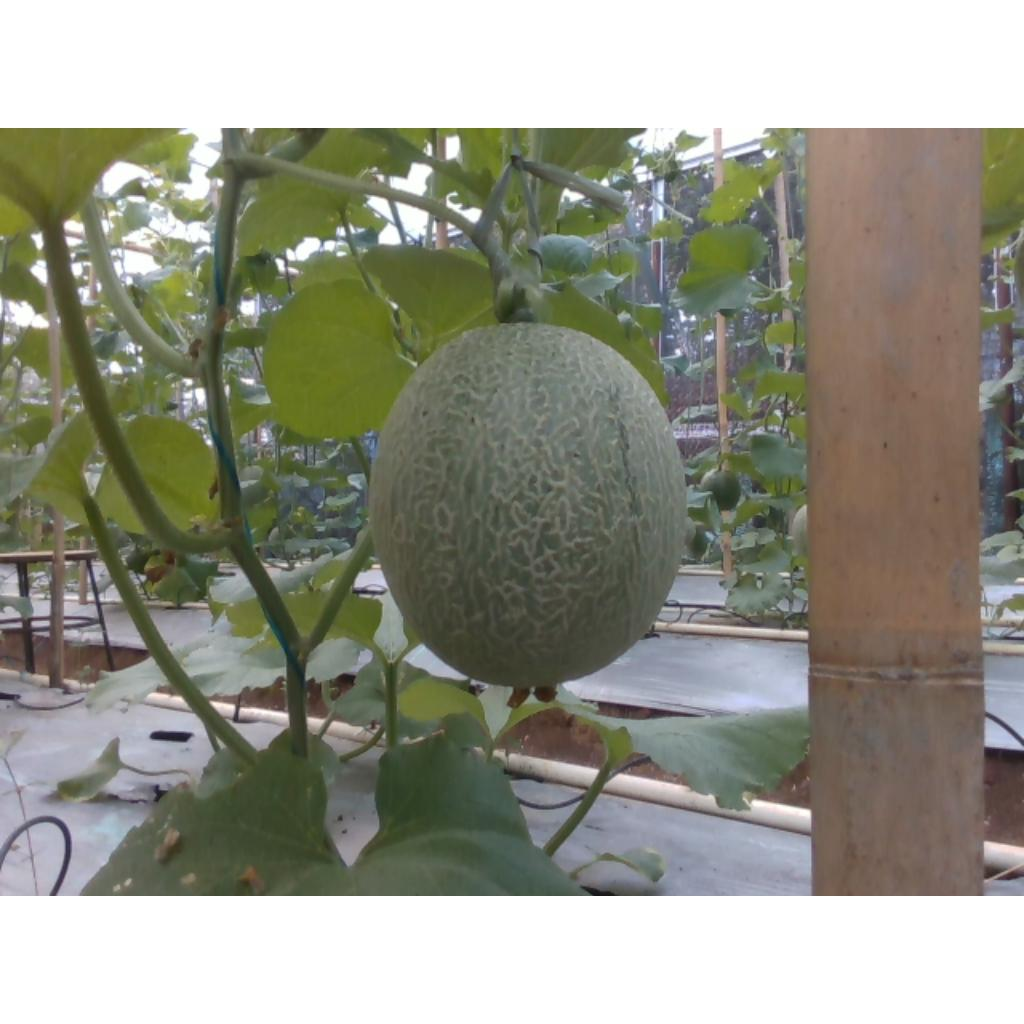melon: (371, 323, 688, 687)
